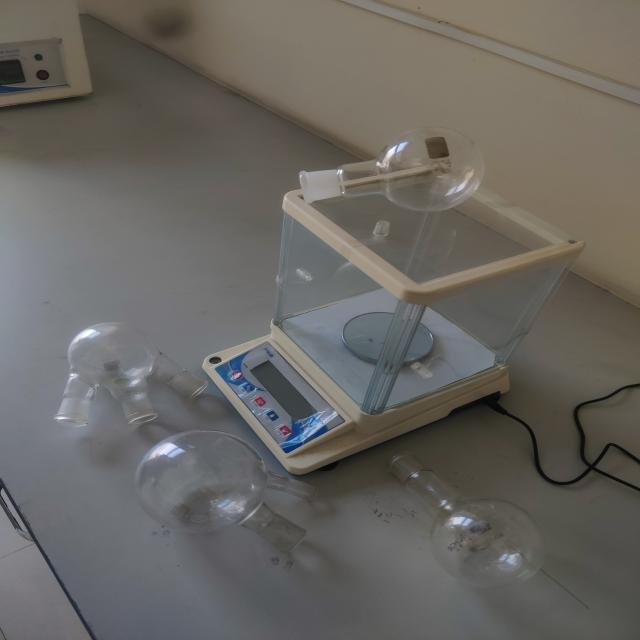Round_Bottom_Flask_Borosilicate_Glass_1_Neck: (342, 434, 578, 615), (267, 109, 521, 229)
Round_Bottom_Flask_Borosilicate_Glass_2_Neck: (113, 413, 352, 563)
Round_Bottom_Flask_Borosilicate_Glass_3_Neck: (37, 320, 220, 439)
